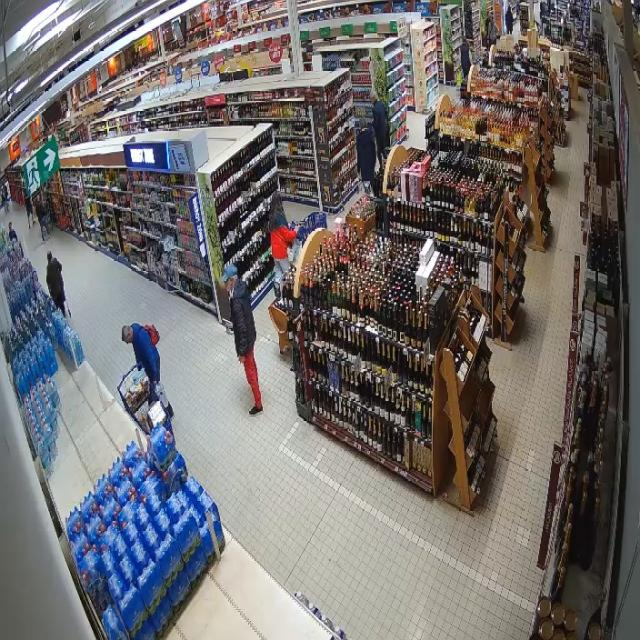article: (153, 382, 168, 407)
bags: (144, 325, 159, 345), (287, 245, 295, 262)
hands: (292, 223, 299, 231), (239, 356, 244, 364), (151, 381, 157, 386), (287, 223, 292, 229)
person: (222, 265, 262, 415), (269, 191, 297, 297), (122, 324, 159, 401), (370, 92, 389, 168), (357, 118, 376, 193), (47, 252, 65, 315)
